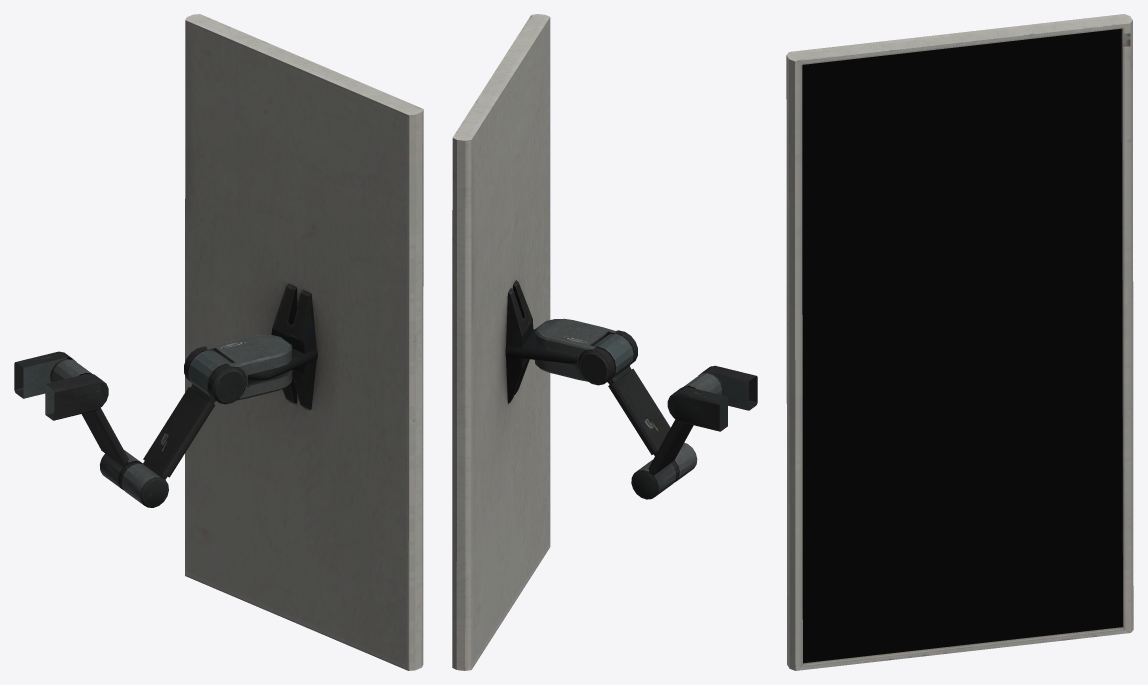
The model's file is lab_monitor_03.obj.
3 views of the same model, side by side, from view 1: azimuth 30°, elevation 25°; view 2: azimuth 150°, elevation 25°; view 3: azimuth 270°, elevation 25° (orthographic). The views are drawn at different scales.
Parts seen in each view (by area): view 1: wavefront obj; view 2: wavefront obj; view 3: wavefront obj.
Part boxes in pixels (<box>): wavefront obj: <box>14,14,423,670</box>; wavefront obj: <box>452,14,757,670</box>; wavefront obj: <box>786,14,1133,670</box>.
Size of the model in its own units: 26.48 by 46.38 by 23.92.
1 material, 1 textured.
